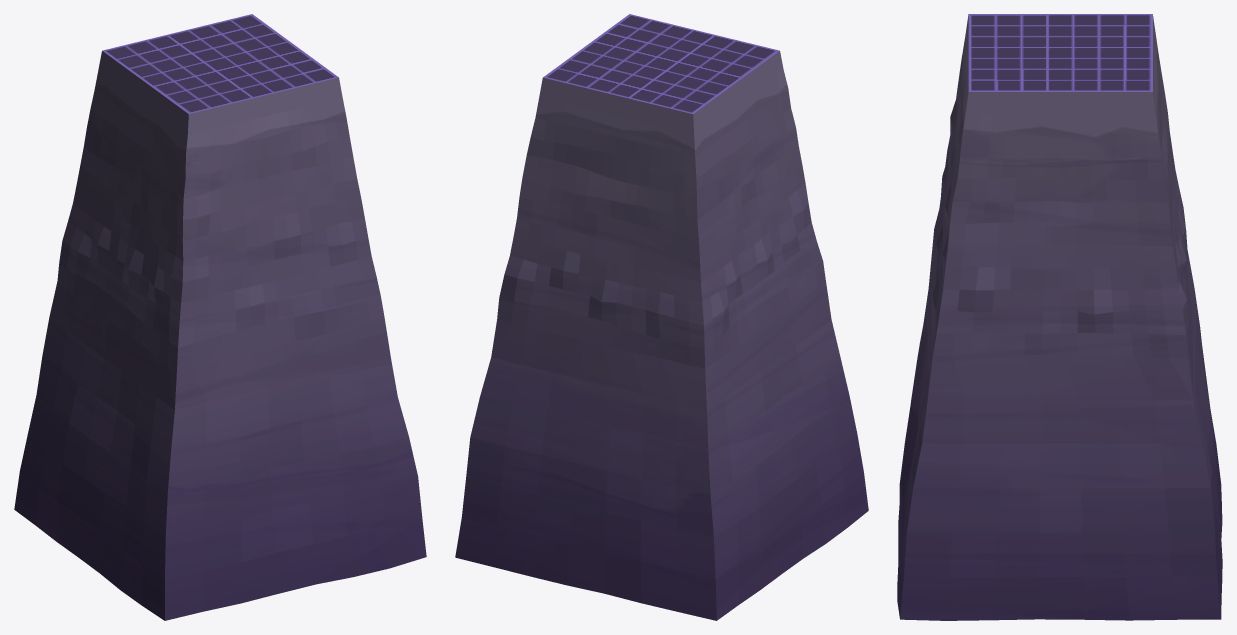
The model's file is ArenaDefault.fbx.
3 renders of one model, left to right at view 1: azimuth 30°, elevation 25°; view 2: azimuth 150°, elevation 25°; view 3: azimuth 270°, elevation 25°, orthographic. The views are drawn at different scales.
Visible parts, largest first — view 1: arena; view 2: arena; view 3: arena.
Boxes of the visible parts, x1,y1,x2,y2 form: arena: (14,14,426,620); arena: (455,14,868,620); arena: (897,14,1222,620).
Size of the model in its own units: 22.44 by 38.2 by 22.51.
Materials: 1 (1 with a texture image).
